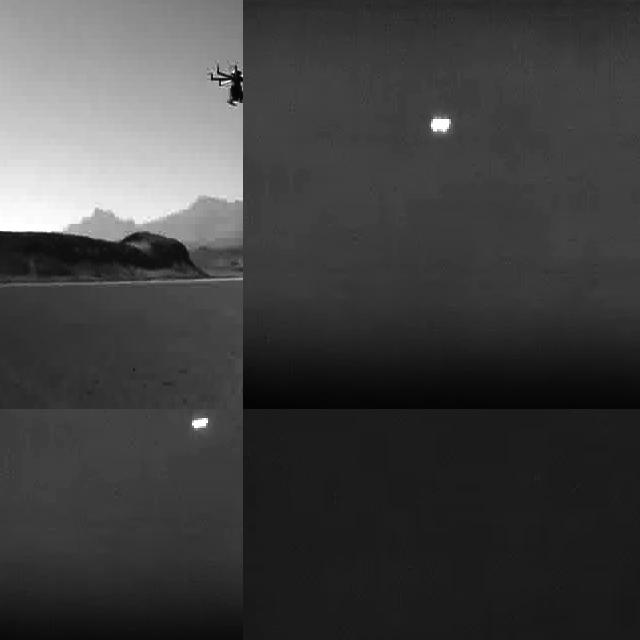1: (421, 114, 457, 144), (180, 412, 216, 442)
drone: (207, 59, 243, 109)
